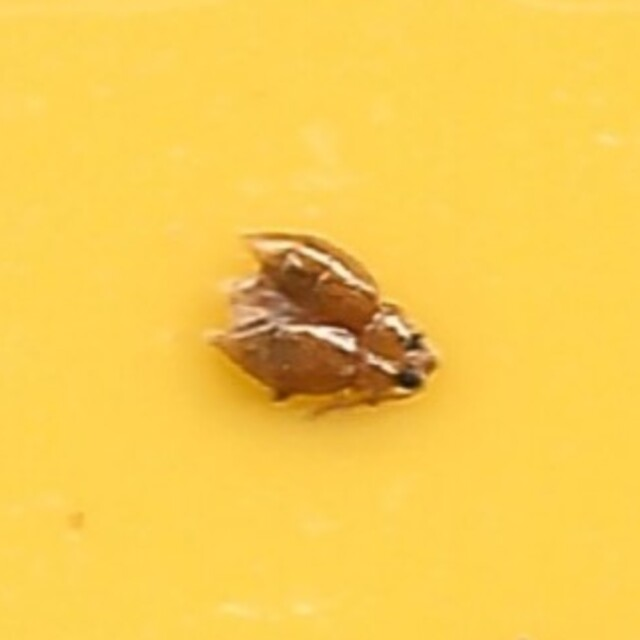Coleoptera: (199, 224, 441, 416)
